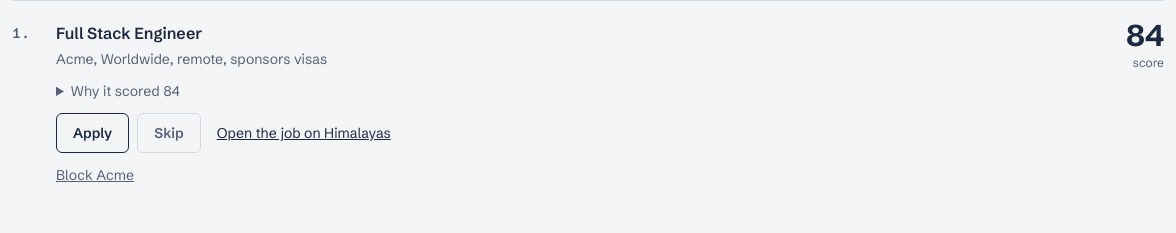
Test: a mark that was not saved goes back, and says why
Click the button "Apply" at (93, 133), box x1=56 y1=113 x2=129 y2=153
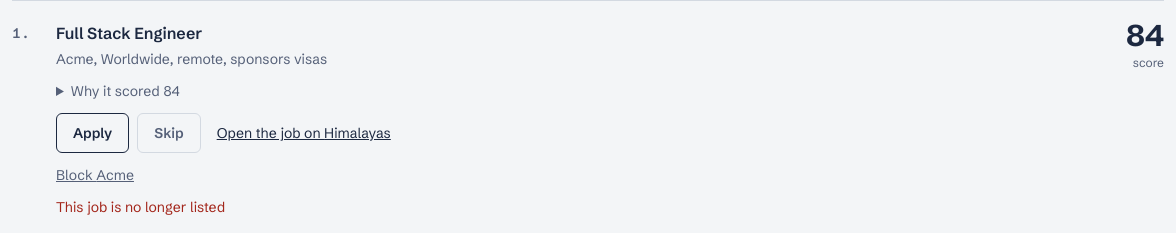
Expected: the message reads "This job is no longer listed", x1=56 y1=198 x2=225 y2=216
